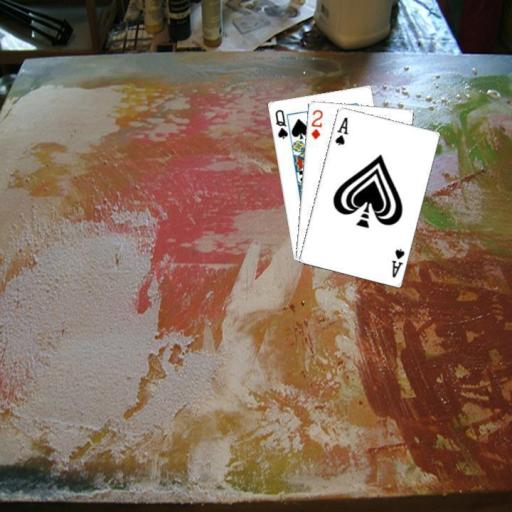card-corner: (388, 245, 406, 279), (332, 114, 350, 146), (272, 106, 288, 140), (308, 106, 323, 141)
